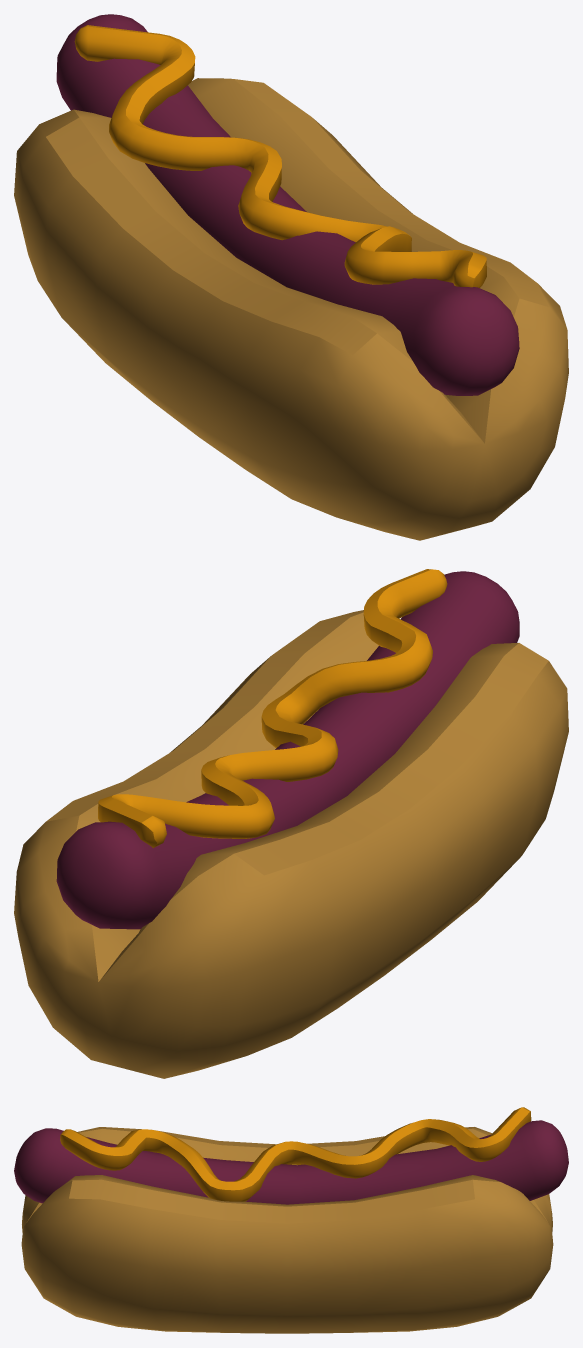
The model's file is Hot Dog_1.FBX.
The picture shows the model from 3 angles, top to bottom: view 1: azimuth 30°, elevation 25°; view 2: azimuth 150°, elevation 25°; view 3: azimuth 270°, elevation 25°; orthographic projection. The views are drawn at different scales.
Parts seen in each view (by area): view 1: Hot Dog_1; view 2: Hot Dog_1; view 3: Hot Dog_1.
Part boxes in pixels (x1=…): Hot Dog_1: x1=14, y1=14, x2=568, y2=540; Hot Dog_1: x1=14, y1=569, x2=568, y2=1078; Hot Dog_1: x1=14, y1=1107, x2=568, y2=1333.
Bounding box in the file's own units: 420 × 1016 × 413.
